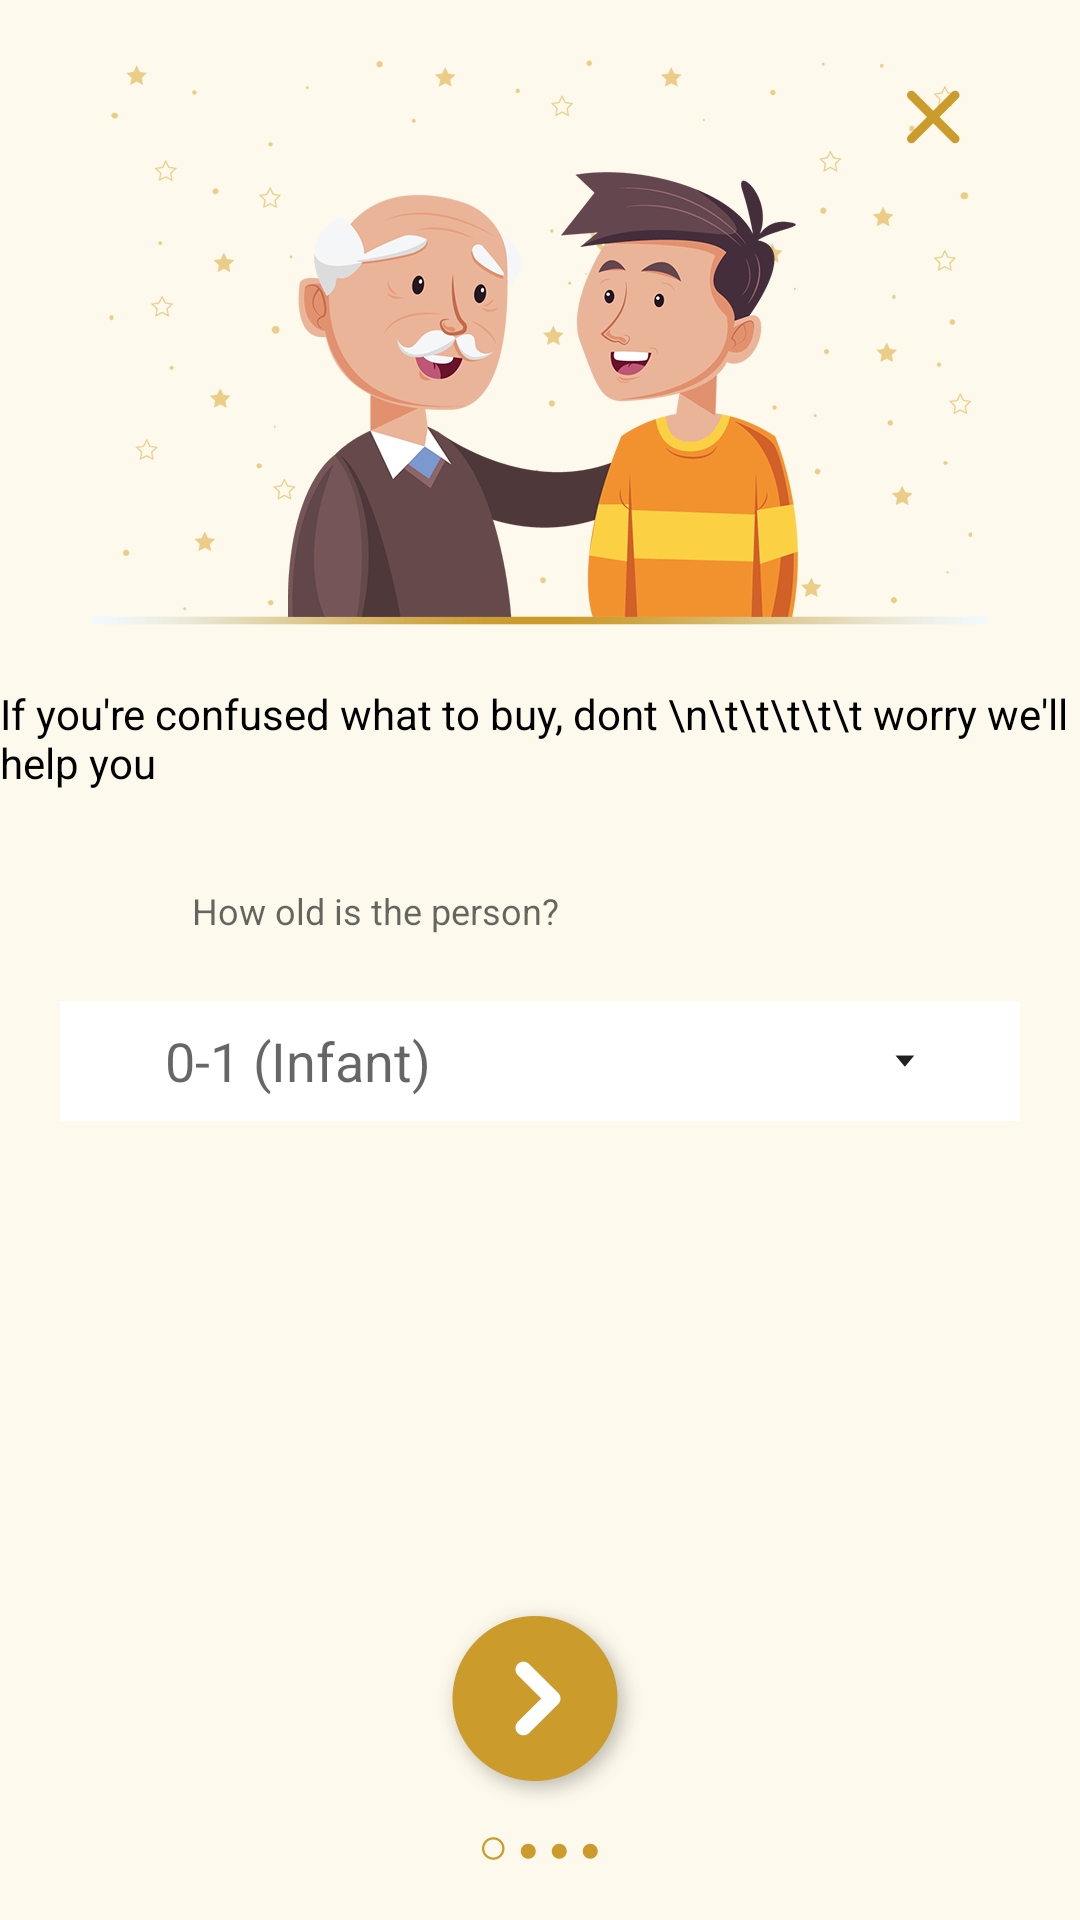

Where to tap for icons on this 1080×1920 app screen, as (x,y):
continuenext: (538,1703)
question cross: (933,117)
